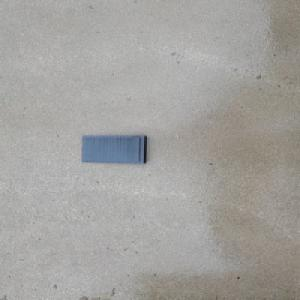PlasticPart: (79, 134, 148, 164)
